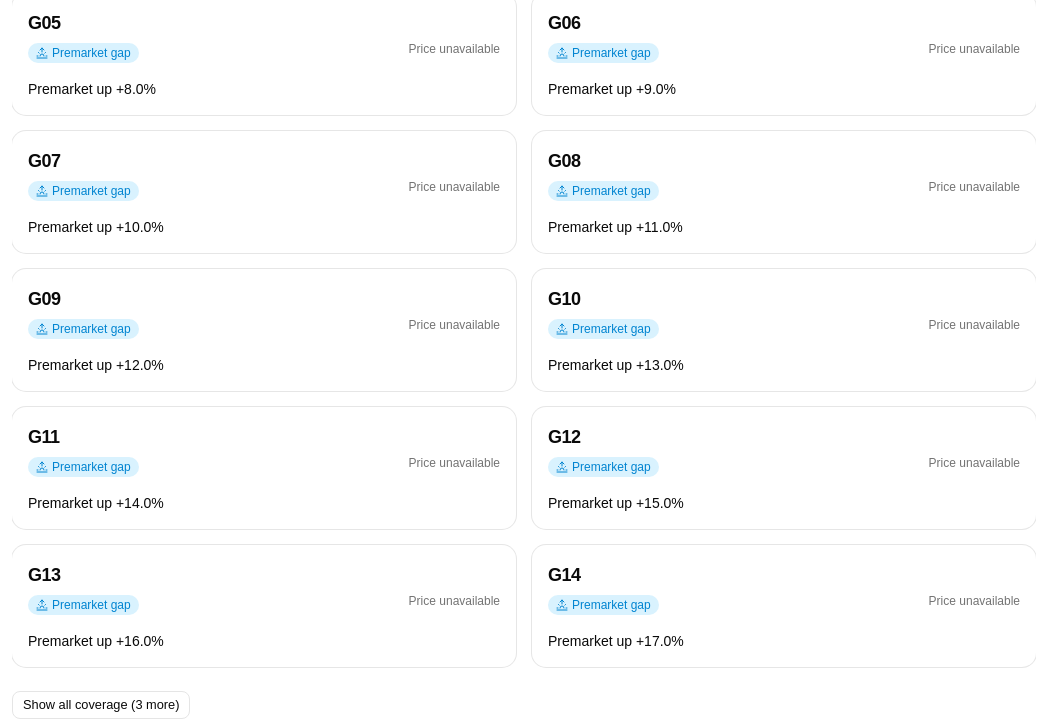
Scenario: clearing a stage filter returns to the compact view even after expanding
The width and height of the screenshot is (1048, 719).
(page scrolled)
Click the button "Show all coverage (3 more)". click: (101, 705)
box: [12,691,190,718]
(page scrolled)
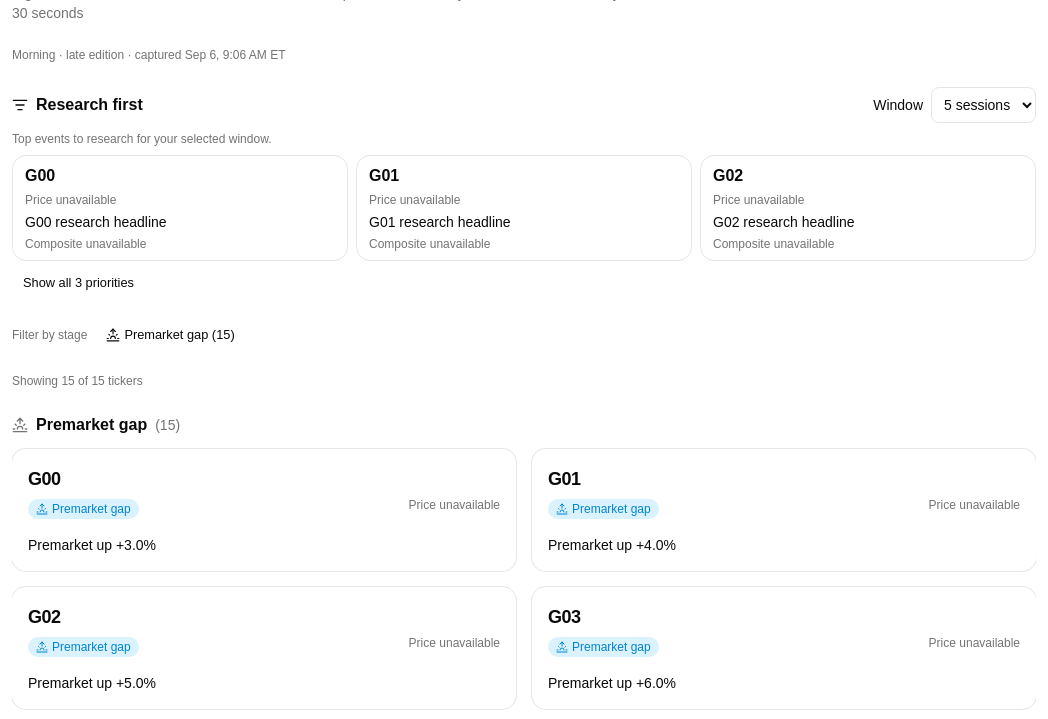
Click the button "Premarket gap (15)". click: (171, 335)
box: [95,321,246,349]
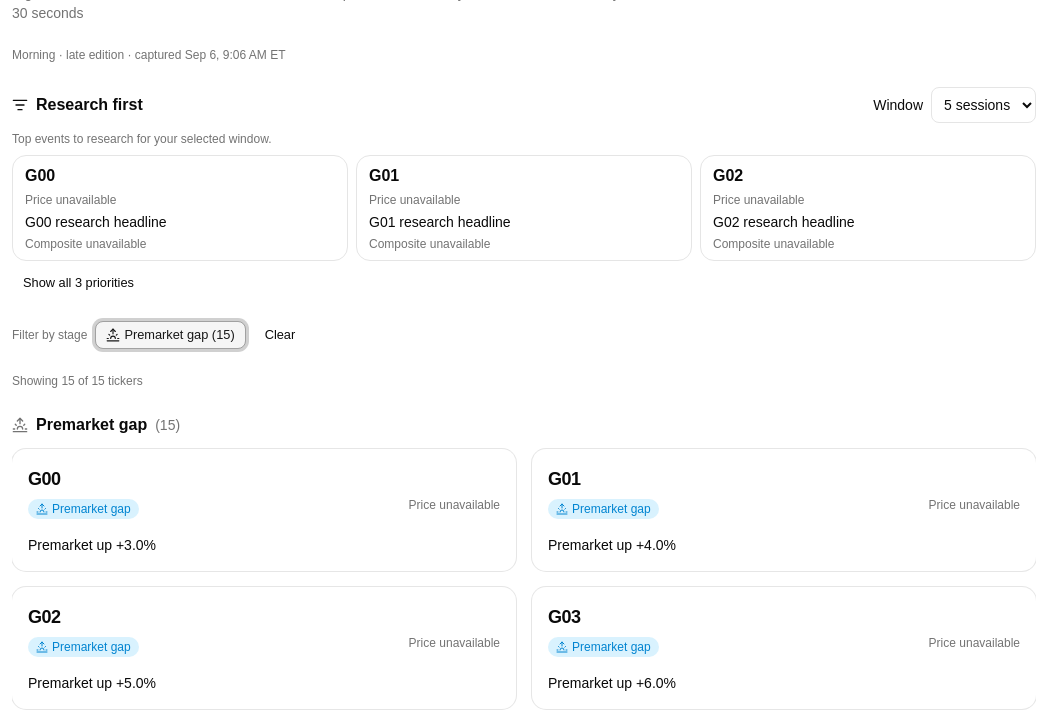
Click the button "Clear". click: (280, 335)
box: [254,321,306,349]
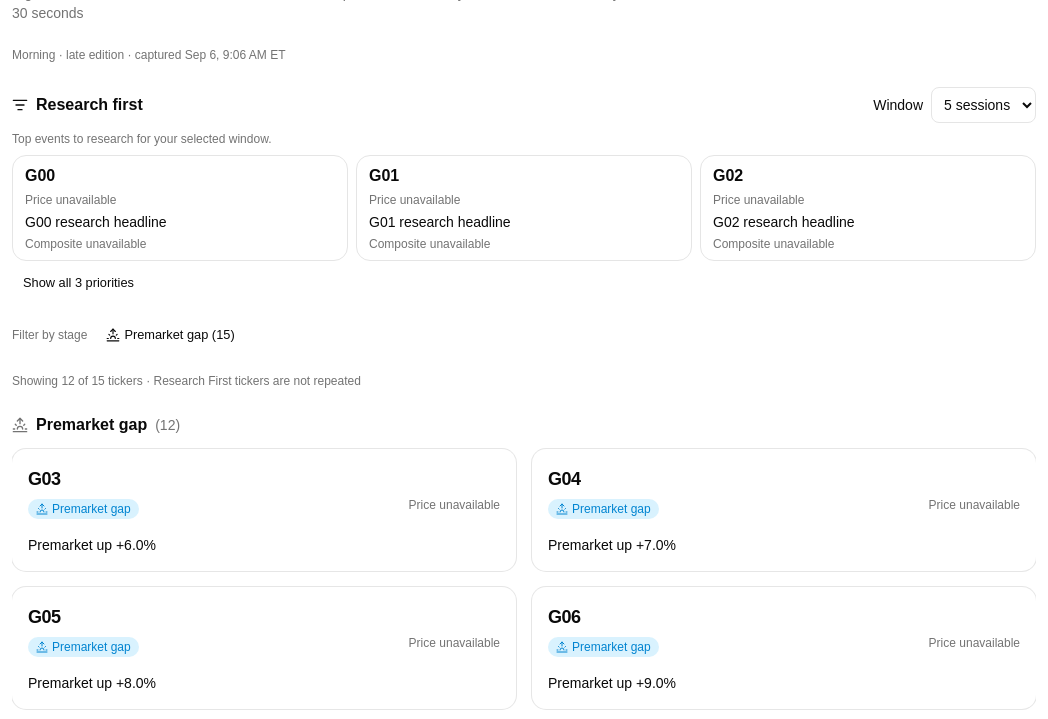
Expected: the text with test id "digest-coverage-count" shows "Showing 12 of 15 tickers", [12,374,361,388]
